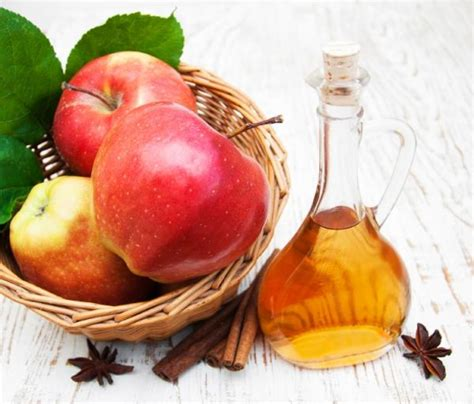apple: (87, 98, 277, 289), (51, 45, 179, 172), (5, 169, 95, 297)
